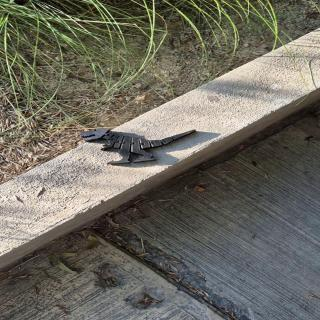dino: (80, 128, 196, 165)
